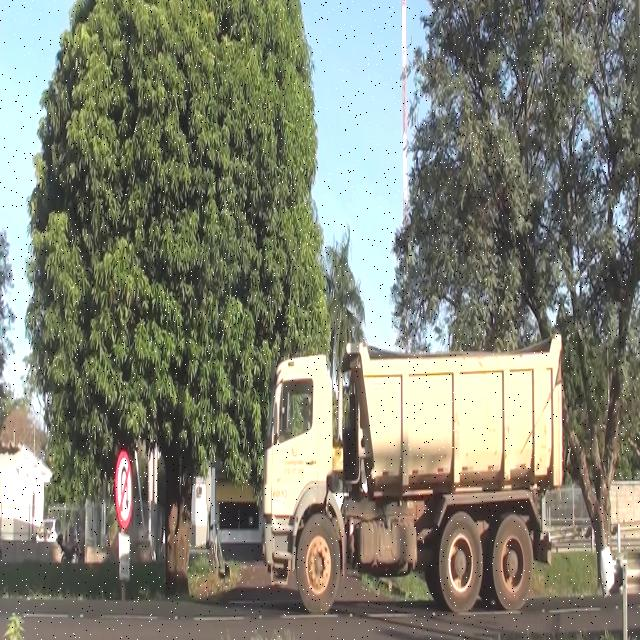-axle: (294, 507, 341, 613), (436, 514, 481, 610), (490, 516, 534, 607)
